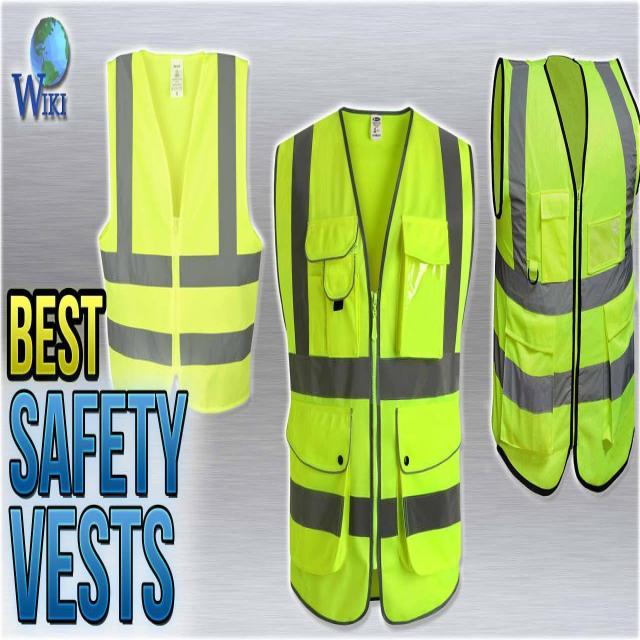Vest: (274, 109, 476, 626), (491, 52, 639, 500), (92, 52, 266, 414)
